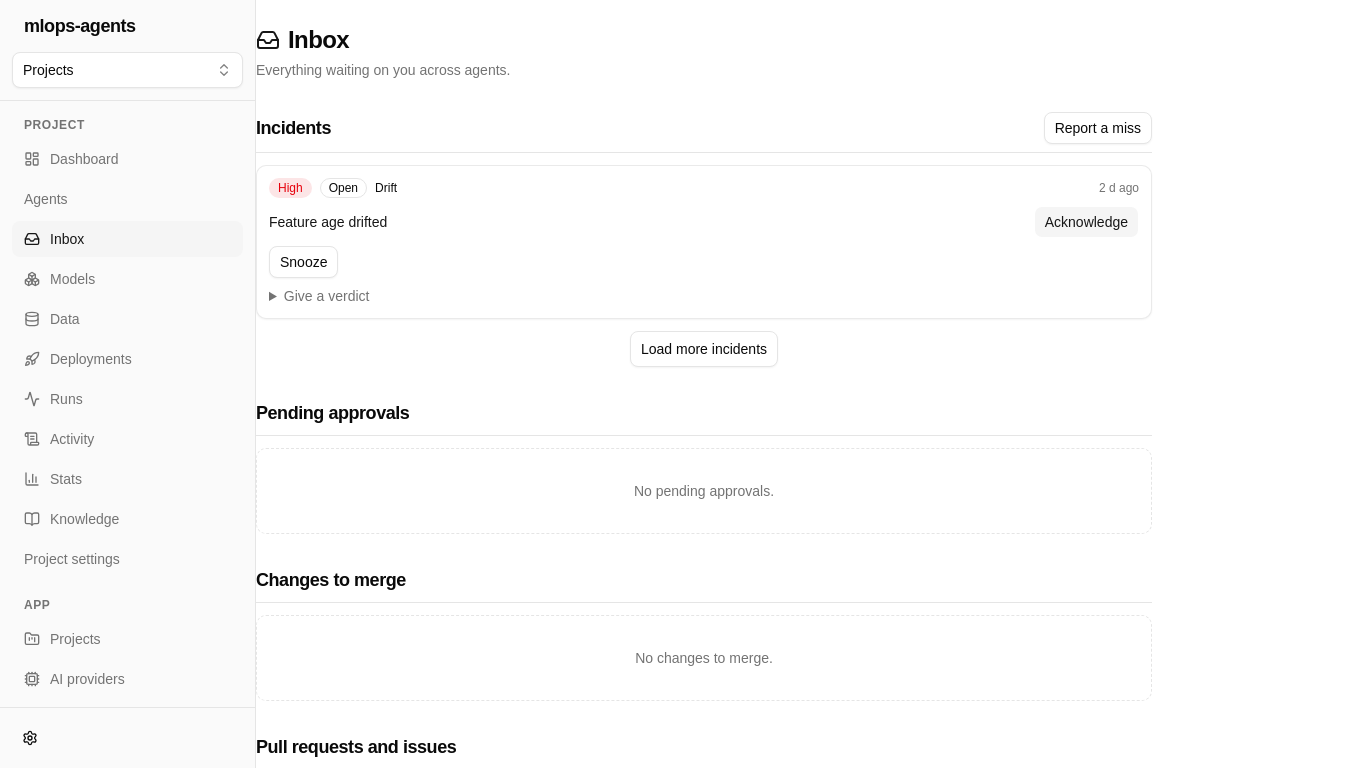
Inbox incidents section › loads more incidents with the offset
Expected: the list item with test id "incident-row-inc_1" is shown, [256,165,1152,319]
Click the button "Load more incidents": (704, 349) [630,331,778,367]
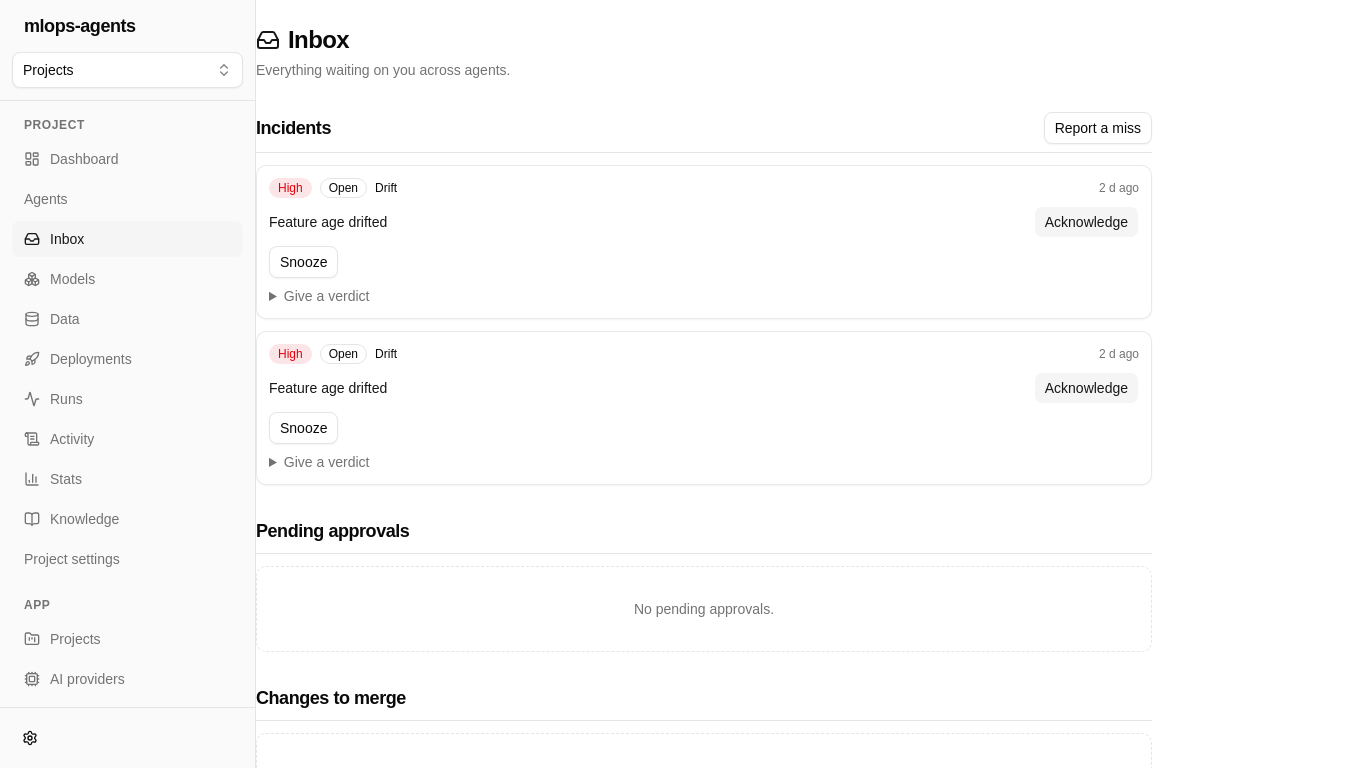
Now the list item with test id "incident-row-inc_2" is shown, box [256,331,1152,485]
Now the button "Load more incidents" is gone
